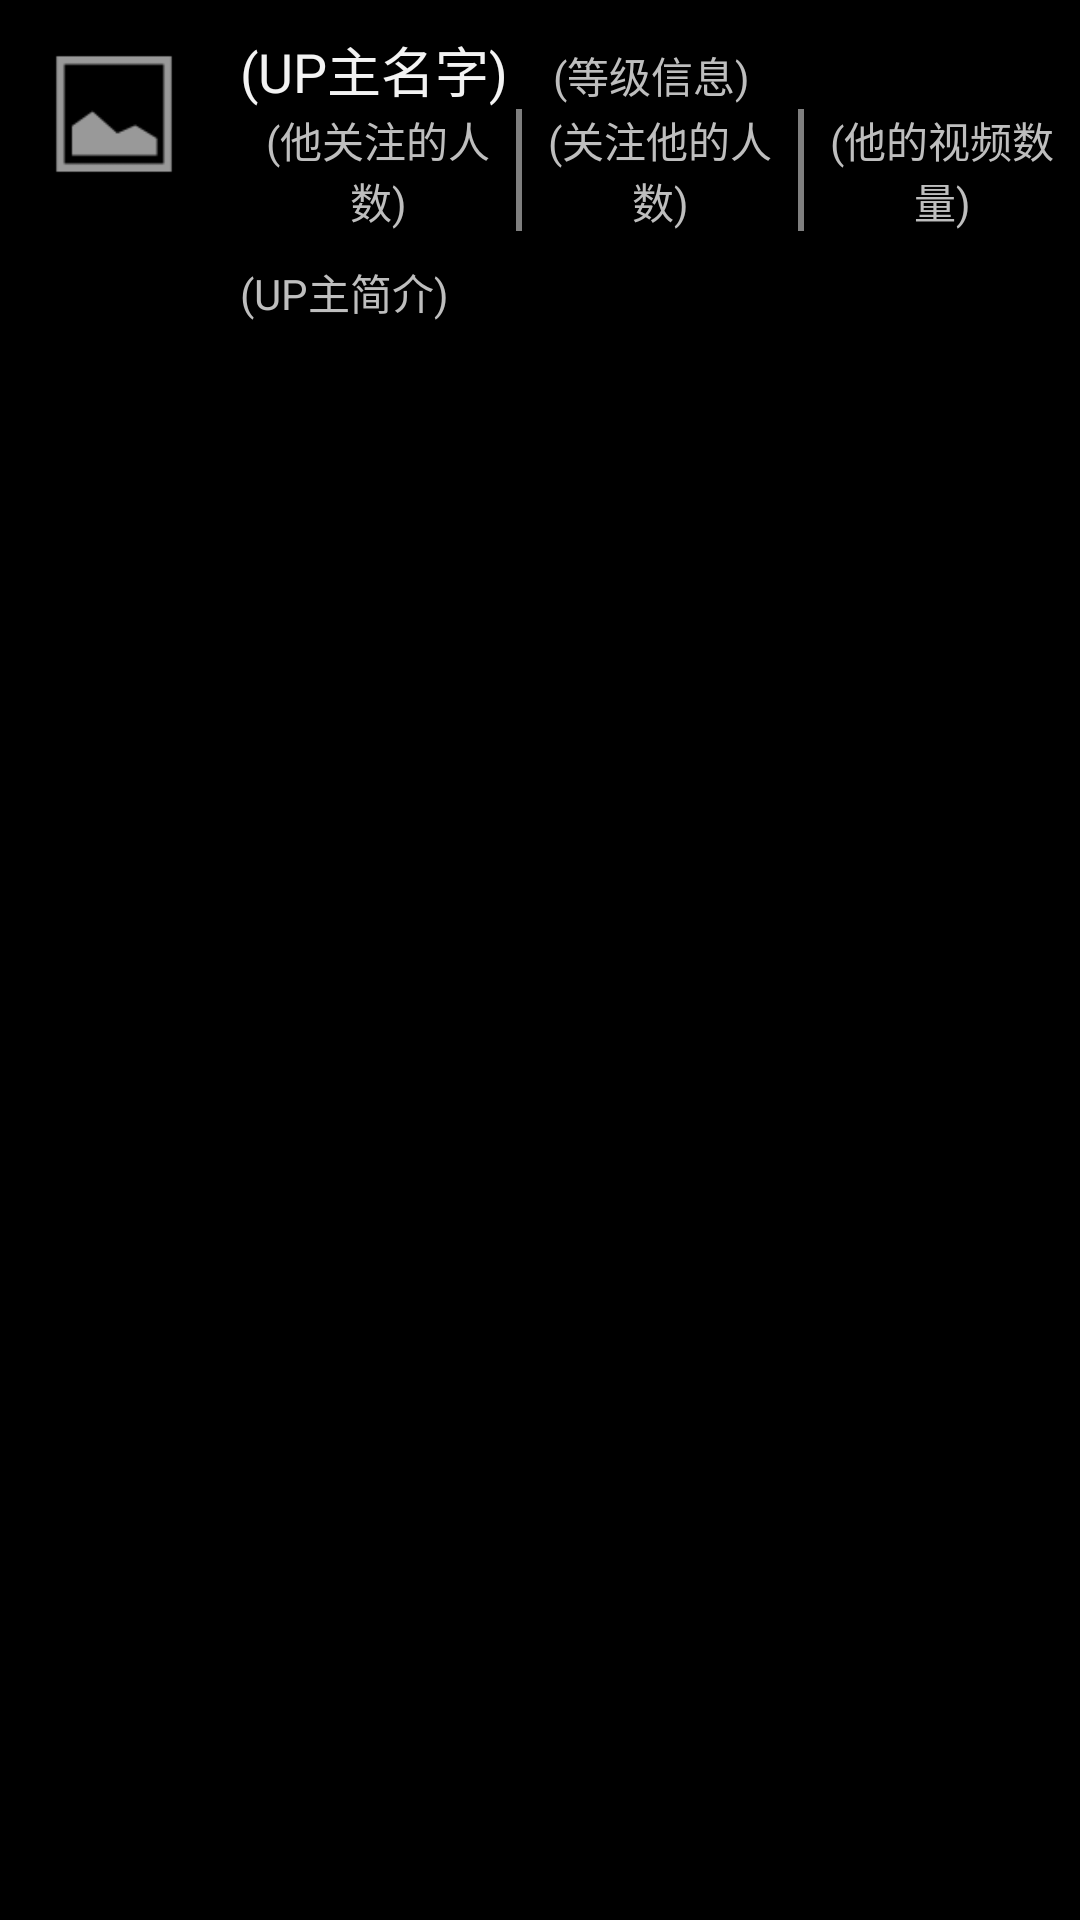

Named icons in this screenshot (1080px×1920px) and their centers, (x,y):
gallery: (114,114)
